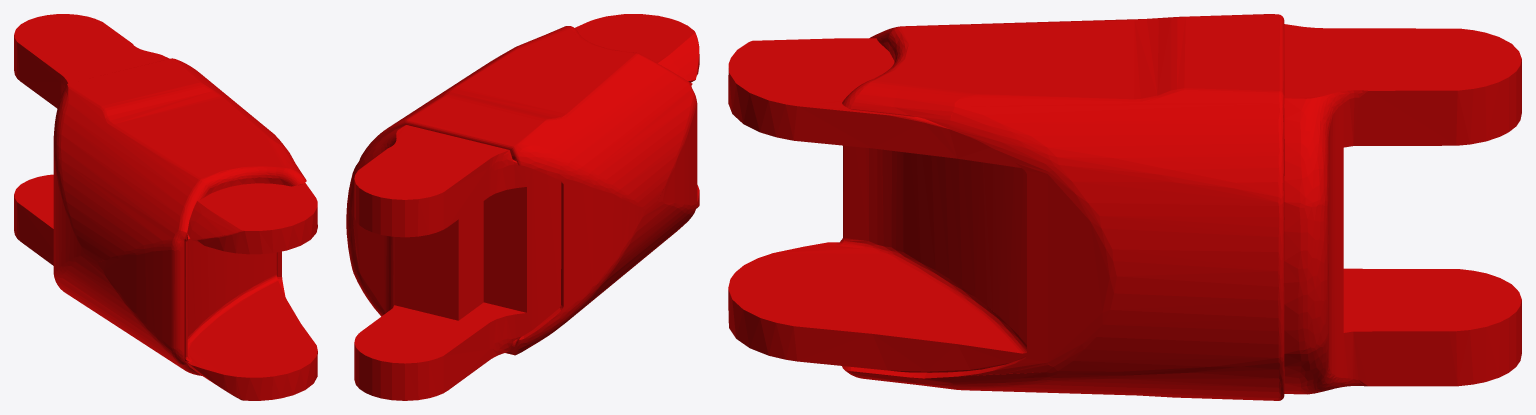
Rendered from thumb_link3.dae.
3 renders of one model, left to right at view 1: azimuth 30°, elevation 25°; view 2: azimuth 150°, elevation 25°; view 3: azimuth 270°, elevation 25°, orthographic. The views are drawn at different scales.
Parts seen in each view (by area): view 1: Untitled; view 2: Untitled; view 3: Untitled.
Part boxes in pixels (left/top/right/bottom): Untitled: left=14, top=14, right=317, bottom=400; Untitled: left=346, top=14, right=699, bottom=400; Untitled: left=728, top=14, right=1521, bottom=400.
Bounding box in the file's own units: 0.0252 × 0.0535 × 0.023.
